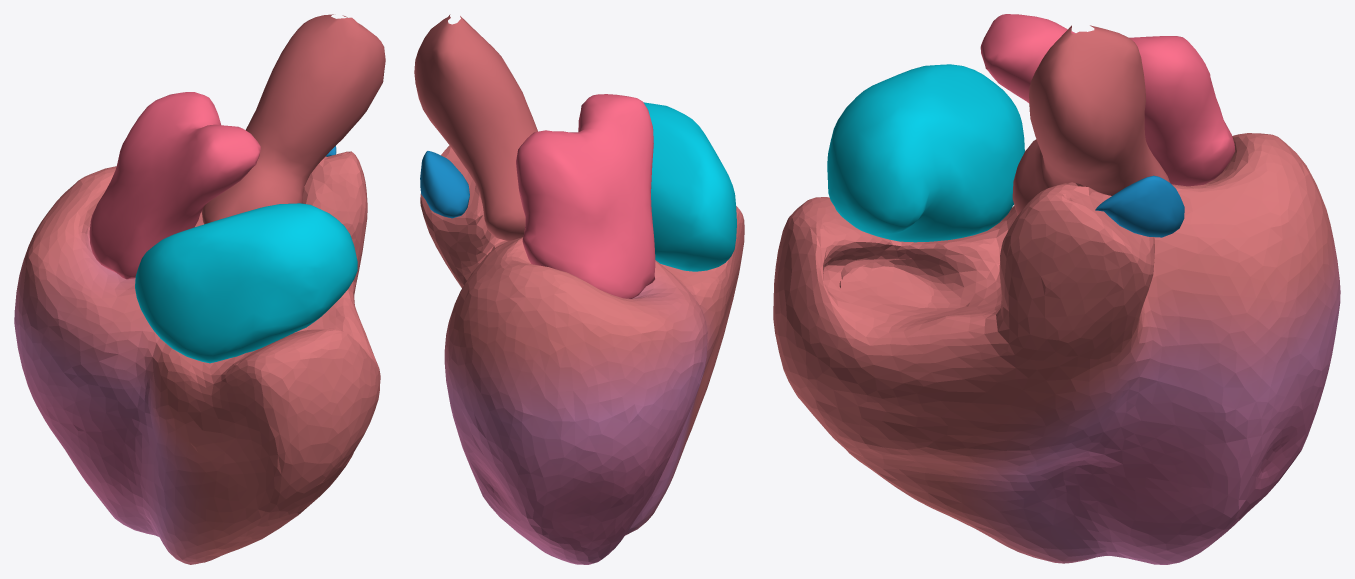
The model's file is frame_48.glb.
The picture shows the model from 3 angles, left to right: view 1: azimuth 30°, elevation 25°; view 2: azimuth 150°, elevation 25°; view 3: azimuth 270°, elevation 25°; orthographic projection. The views are drawn at different scales.
Visible parts, largest first — view 1: Renderer Node; view 2: Renderer Node; view 3: Renderer Node.
Boxes of the visible parts, left/top/right/bottom form: Renderer Node: left=14, top=14, right=385, bottom=564; Renderer Node: left=414, top=14, right=744, bottom=564; Renderer Node: left=773, top=14, right=1340, bottom=564.
Bounding box in the file's own units: 103 × 158 × 128.
